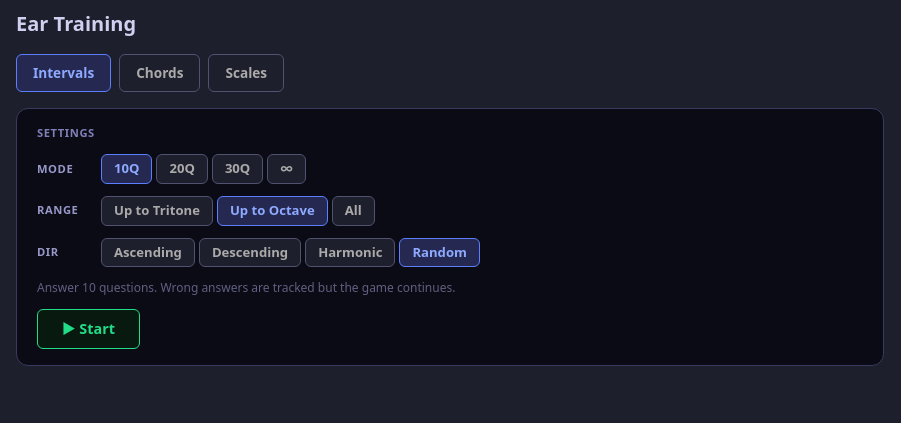
EarTrainingPage – rendering › switches to Chords tab
Click the button "Chords": [160, 73] box [119,54,200,92]
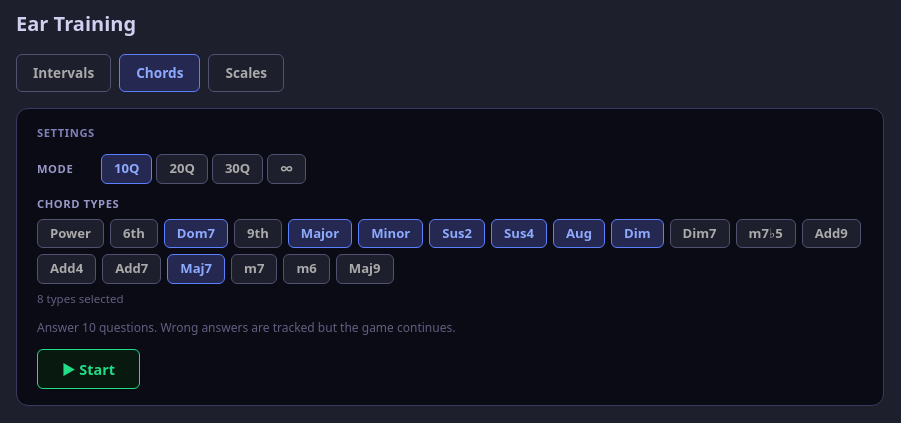
Now the text "Chord Types" is shown, box [37,196,119,211]
